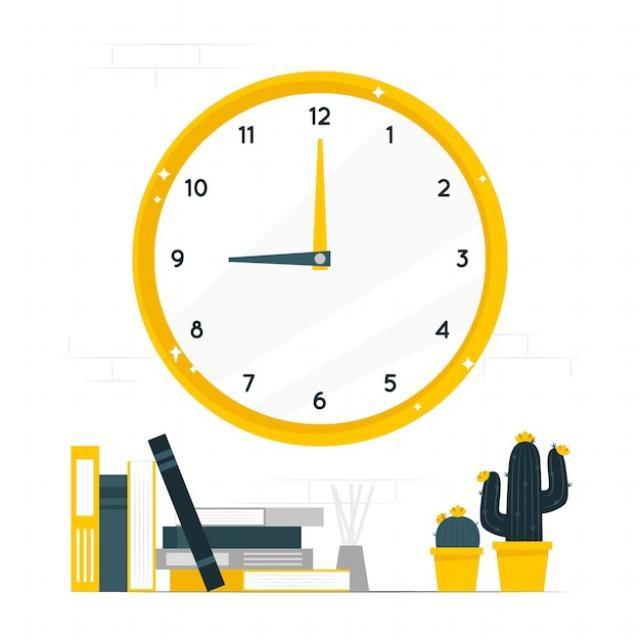clock: (119, 59, 595, 583)
